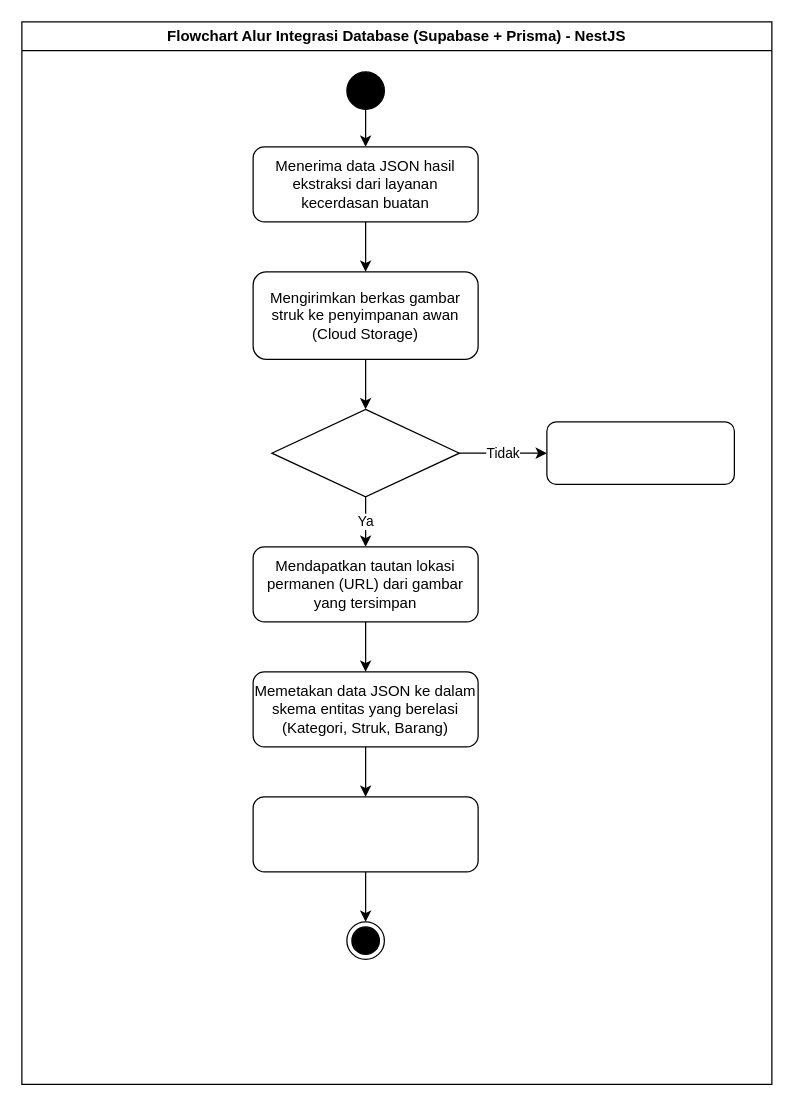
Image size: 794x1106. Some labels were removed from this diagram. The shapes that lost their labels are listed below. From the top down, each one's box as (x1, y1, x2, y2) in pixels, then its label:
(271, 408, 459, 497): Apakah gambar berhasil diunggah tanpa kendala?
(546, 421, 734, 484): Sistem membatalkan proses (503 Service Unavailable)
(252, 796, 478, 872): Menyimpan seluruh catatan ke tabel PostgreSQL di Supabase secara serentak
